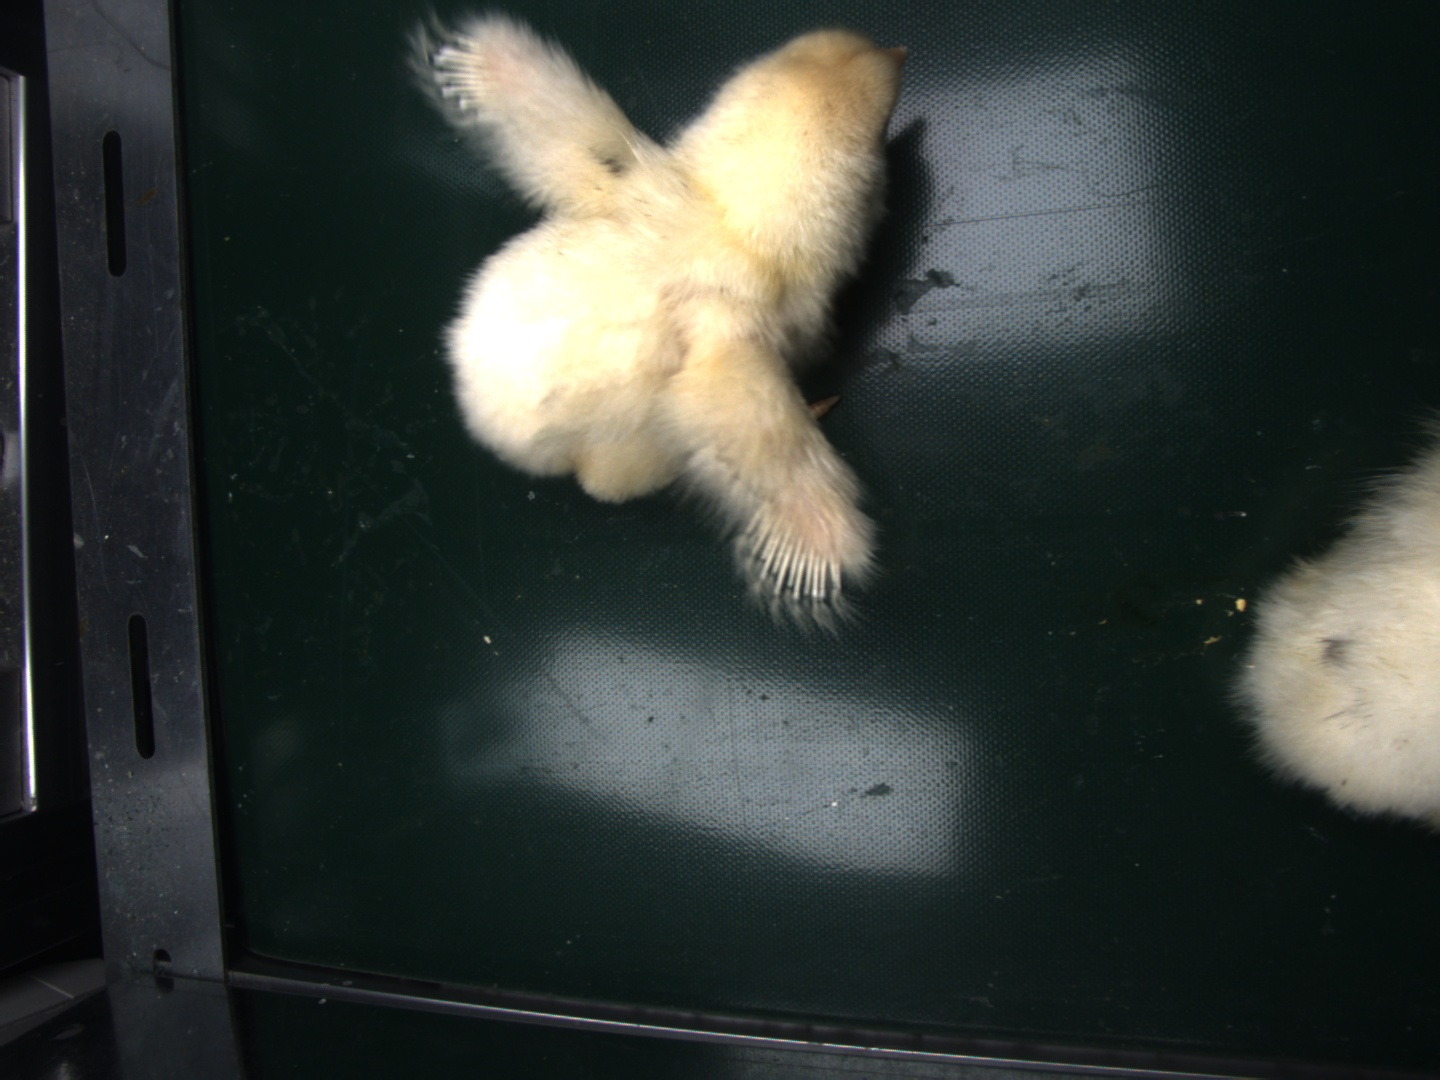male: (747, 513, 840, 601)
